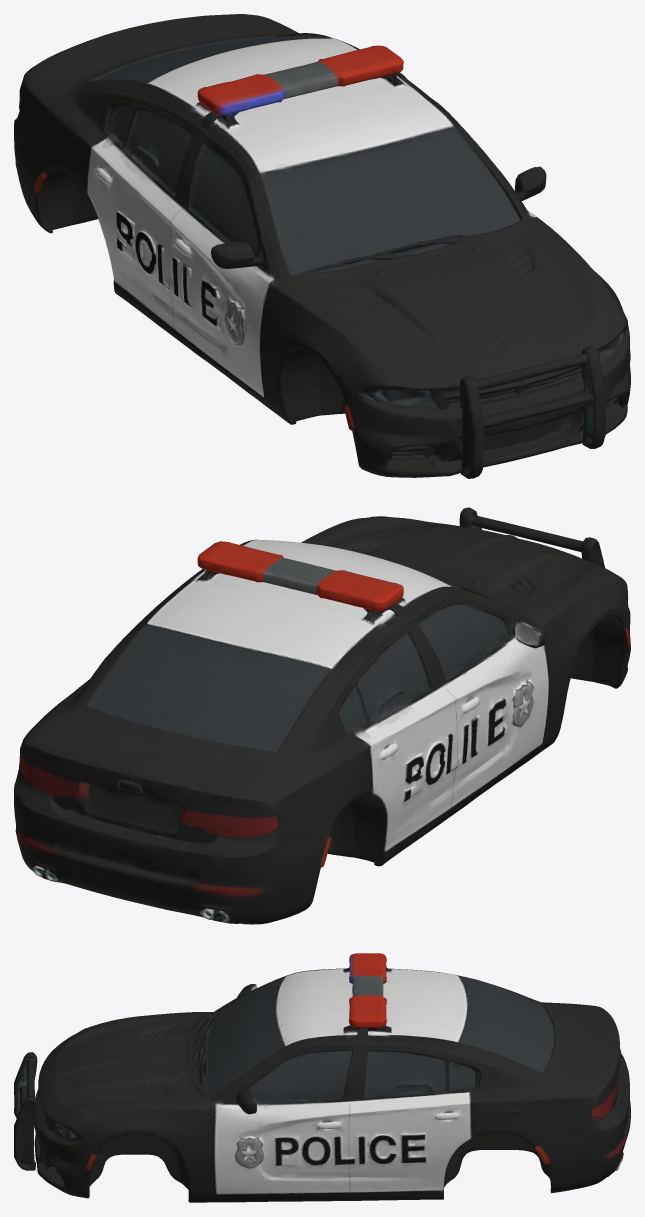
Rendered from police.glb.
The picture shows the model from 3 angles, top to bottom: view 1: azimuth 30°, elevation 25°; view 2: azimuth 150°, elevation 25°; view 3: azimuth 270°, elevation 25°; orthographic projection. The views are drawn at different scales.
Parts seen in each view (by area): view 1: tripo_node_9801791d-8e27-4df6-83bb-6e327f65cfd7; view 2: tripo_node_9801791d-8e27-4df6-83bb-6e327f65cfd7; view 3: tripo_node_9801791d-8e27-4df6-83bb-6e327f65cfd7.
Boxes of the visible parts, bbox=[...] form: tripo_node_9801791d-8e27-4df6-83bb-6e327f65cfd7: bbox=[14, 14, 630, 478]; tripo_node_9801791d-8e27-4df6-83bb-6e327f65cfd7: bbox=[14, 507, 630, 924]; tripo_node_9801791d-8e27-4df6-83bb-6e327f65cfd7: bbox=[14, 953, 630, 1202].
Size of the model in its own units: 0.4575 by 0.3057 by 1.
Materials: 1 (1 with a texture image).
